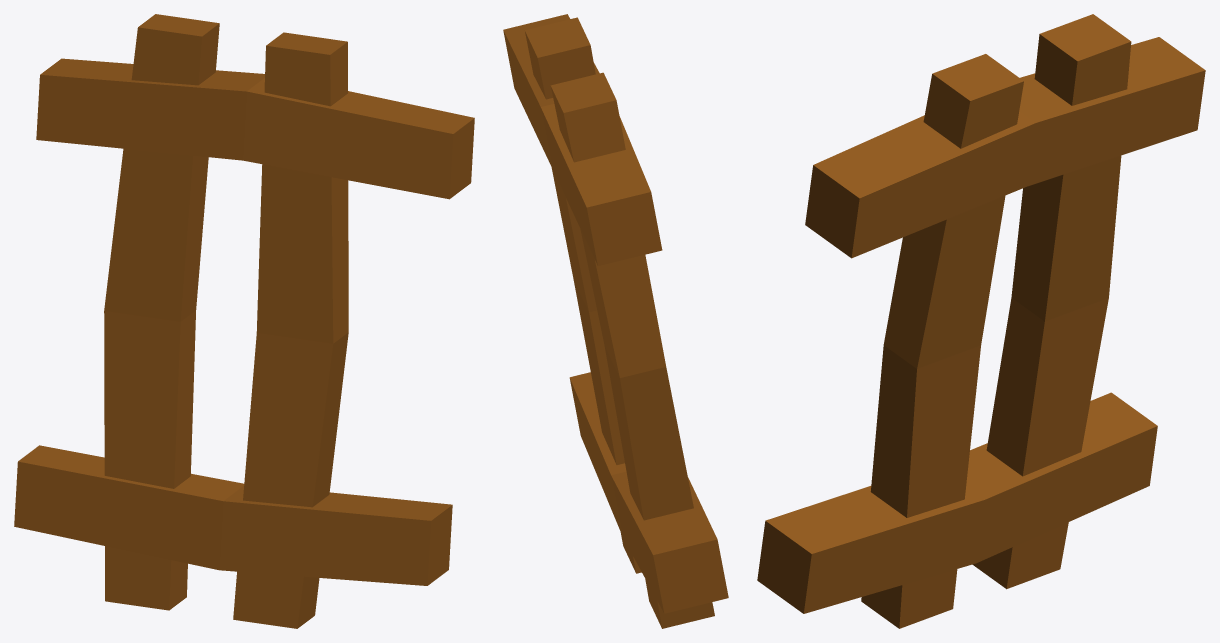
The model's file is fence.fbx.
The picture shows the model from 3 angles, left to right: view 1: azimuth 30°, elevation 25°; view 2: azimuth 150°, elevation 25°; view 3: azimuth 270°, elevation 25°; orthographic projection. The views are drawn at different scales.
Visible parts, largest first — view 1: Cube; view 2: Cube; view 3: Cube.
Boxes of the visible parts, box(x1,y1,x2,y2) form: Cube: box(14, 14, 474, 628); Cube: box(503, 14, 728, 628); Cube: box(757, 14, 1205, 628).
Bounding box in the file's own units: 232 × 348 × 248.
